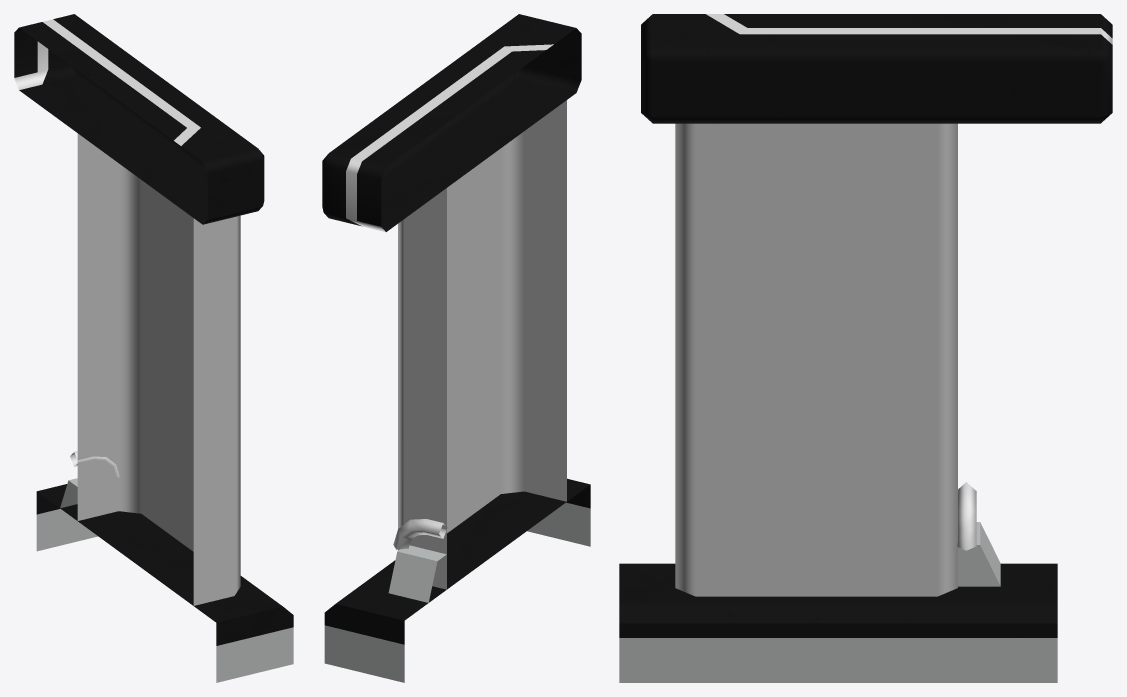
Rendered from Mesh_Bar_End.fbx.
3 renders of one model, left to right at view 1: azimuth 30°, elevation 25°; view 2: azimuth 150°, elevation 25°; view 3: azimuth 270°, elevation 25°, orthographic. The views are drawn at different scales.
Visible parts, largest first — view 1: Bar_End; view 2: Bar_End; view 3: Bar_End.
Part boxes in pixels (x1,y1,x2,y2): Bar_End: (14, 14, 293, 682); Bar_End: (322, 14, 590, 682); Bar_End: (619, 14, 1112, 682).
Size of the model in its own units: 0.2012 by 1.27 by 0.9111.
